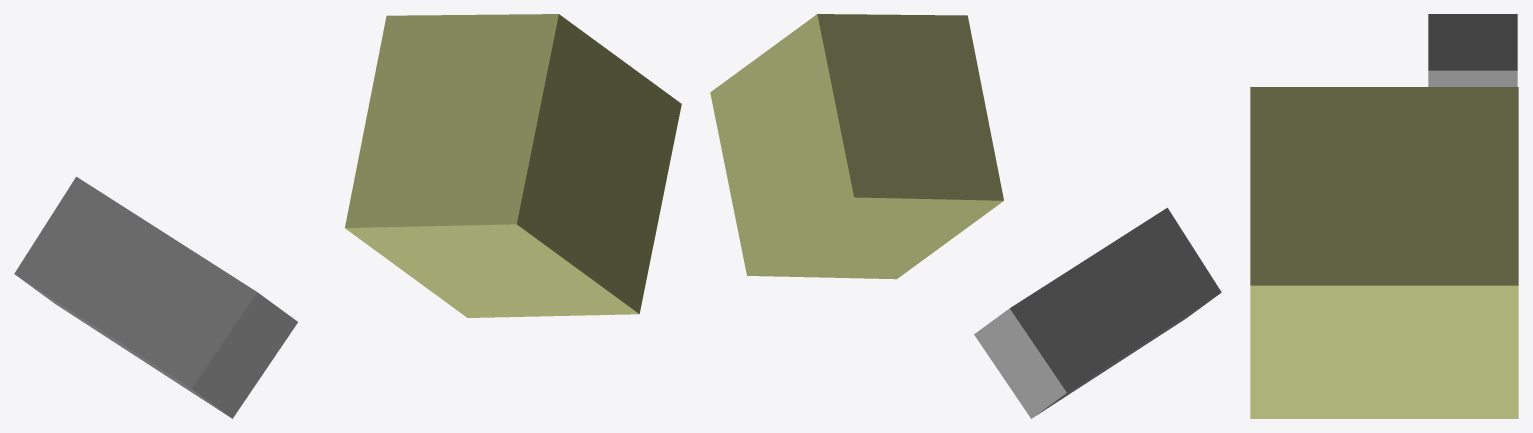
3 renders of one model, left to right at view 1: azimuth 30°, elevation 25°; view 2: azimuth 150°, elevation 25°; view 3: azimuth 270°, elevation 25°, orthographic. The views are drawn at different scales.
Parts seen in each view (by area): view 1: 0_1_2_0_1_3_0_2_0_0; view 2: 0_1_2_0_1_3_0_2_0_0; view 3: 0_1_2_0_1_3_0_2_0_0.
Boxes of the visible parts, x1,y1,x2,y2 form: 0_1_2_0_1_3_0_2_0_0: (14, 14, 681, 418); 0_1_2_0_1_3_0_2_0_0: (710, 14, 1221, 418); 0_1_2_0_1_3_0_2_0_0: (1250, 14, 1518, 418).
Size of the model in its own units: 23.06 by 13.15 by 9.
